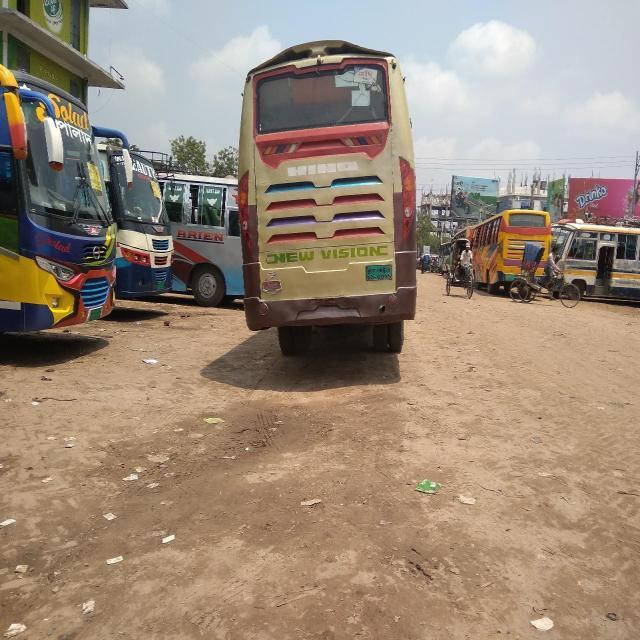numberplate: (364, 263, 393, 282)
